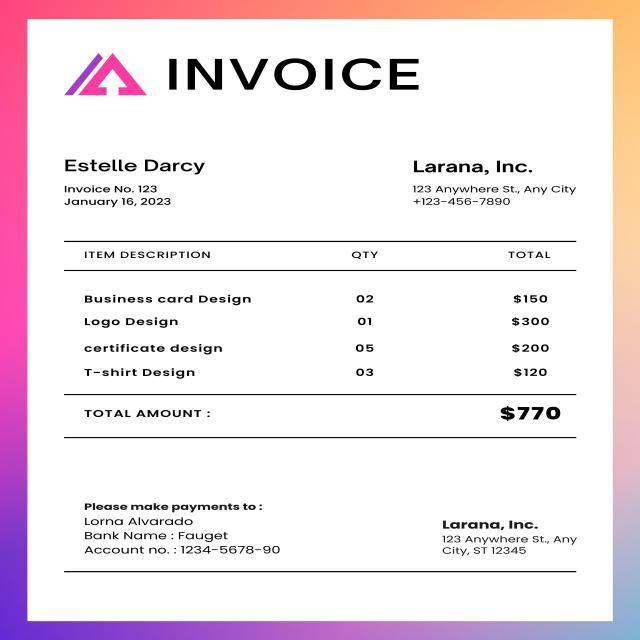ROI: (61, 234, 592, 389), (68, 483, 283, 561), (73, 404, 575, 431), (398, 145, 580, 217), (159, 54, 431, 102), (48, 147, 219, 218), (433, 497, 587, 562), (48, 41, 151, 110)
